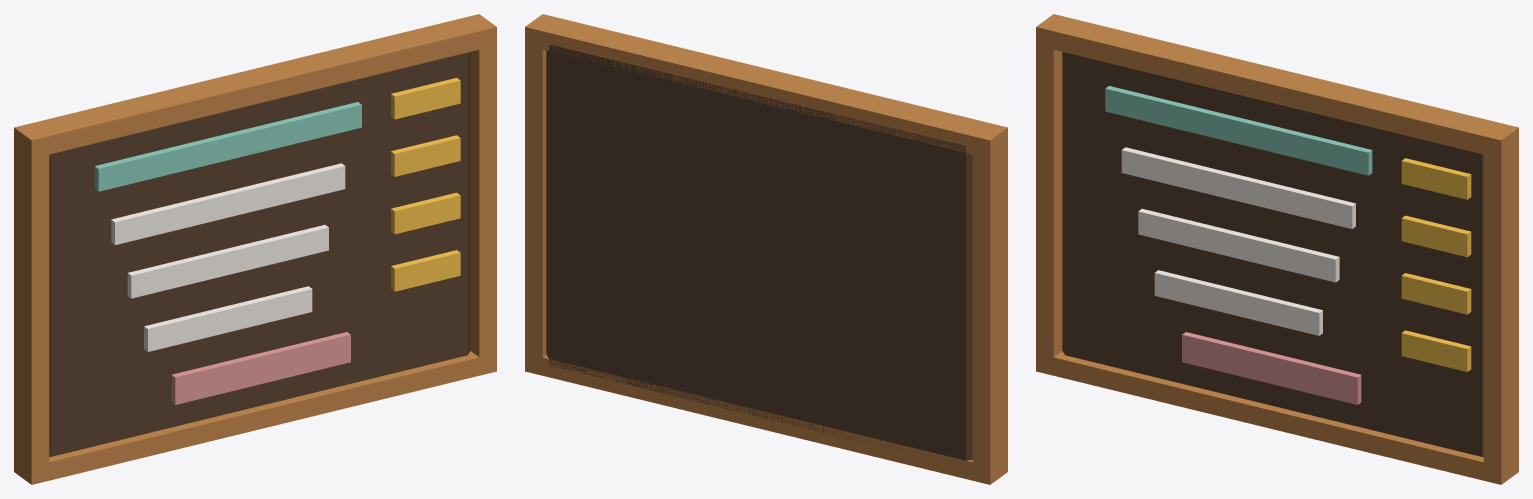
The model's file is CatCafe_Decor_MenuBoard.fbx.
The picture shows the model from 3 angles, left to right: view 1: azimuth 30°, elevation 25°; view 2: azimuth 150°, elevation 25°; view 3: azimuth 330°, elevation 25°; orthographic projection.
Visible parts, largest first — view 1: CatCafe_Decor_MenuBoard; view 2: CatCafe_Decor_MenuBoard; view 3: CatCafe_Decor_MenuBoard.
Part boxes in pixels (x1,y1,x2,y2): CatCafe_Decor_MenuBoard: [14, 14, 496, 484]; CatCafe_Decor_MenuBoard: [525, 14, 1007, 484]; CatCafe_Decor_MenuBoard: [1036, 14, 1518, 484].
Bounding box in the file's own units: 2.12 × 1.5 × 0.14.
Materials: 1 (1 with a texture image).
